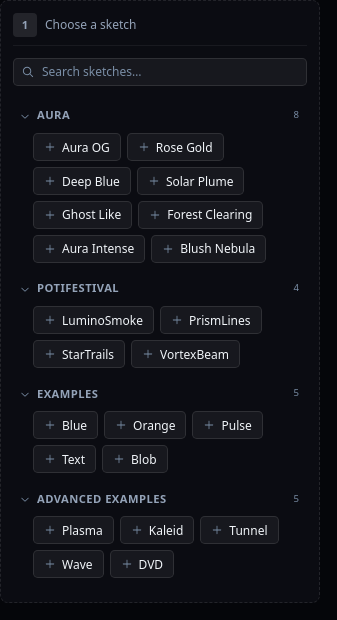
Scenario: SlotColumn › search functionality › shows clear button when searching
The image size is (337, 620).
Step 1. Type "test" into the field with placeholder "Search sketches…" → (160, 72), box [13,58,307,86]
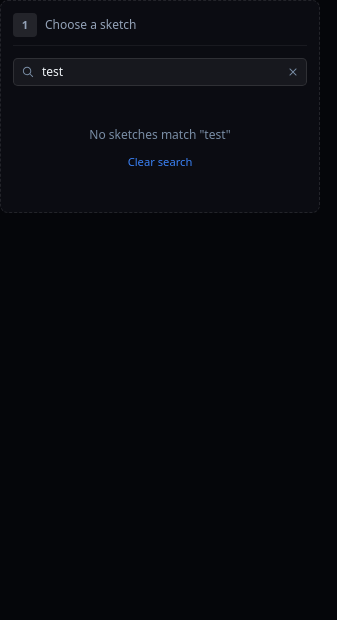
Now the button named "Clear search" is shown, box [283,62,303,82]
